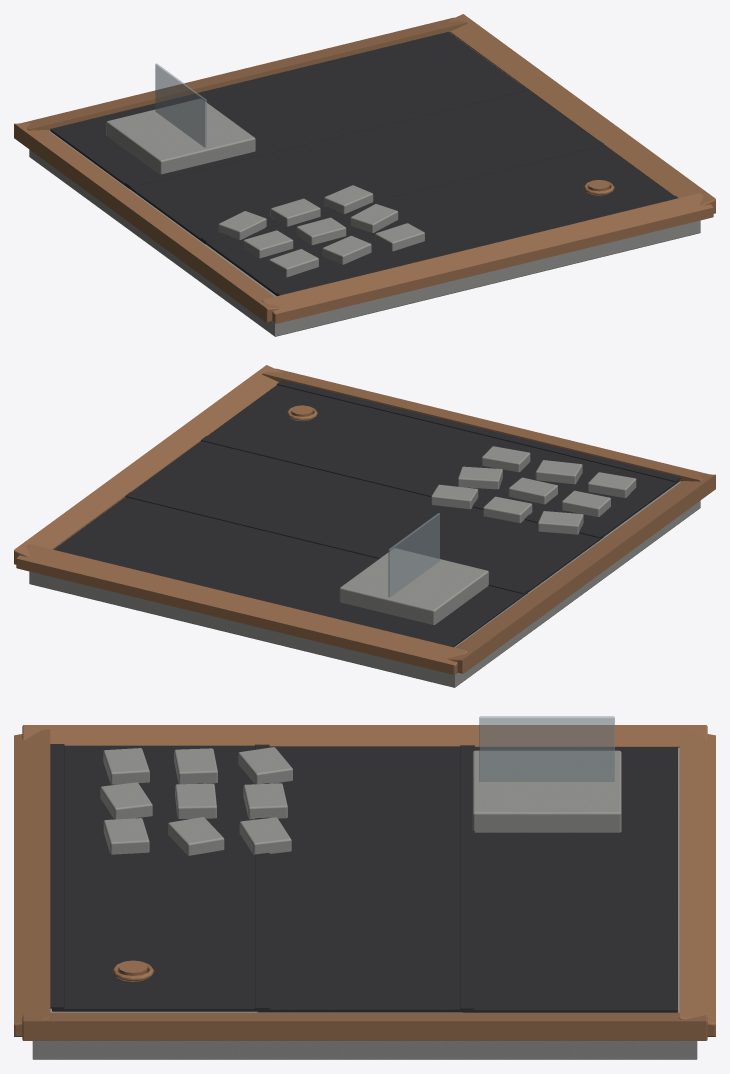
The model's file is fps-survival-forest-outpost-roof-slab-flat-d77204d7__32615.glb.
3 renders of one model, top to bottom at view 1: azimuth 30°, elevation 25°; view 2: azimuth 150°, elevation 25°; view 3: azimuth 270°, elevation 25°, orthographic. The views are drawn at different scales.
Parts seen in each view (by area): view 1: roof-slab-flat; view 2: roof-slab-flat; view 3: roof-slab-flat.
Part boxes in pixels (x1,y1,x2,y2): roof-slab-flat: (14,14,715,336); roof-slab-flat: (14,365,715,687); roof-slab-flat: (14,716,715,1059).
Bounding box in the file's own units: 4.24 × 0.8379 × 4.24.
Materials: 4 (1 with a texture image).
